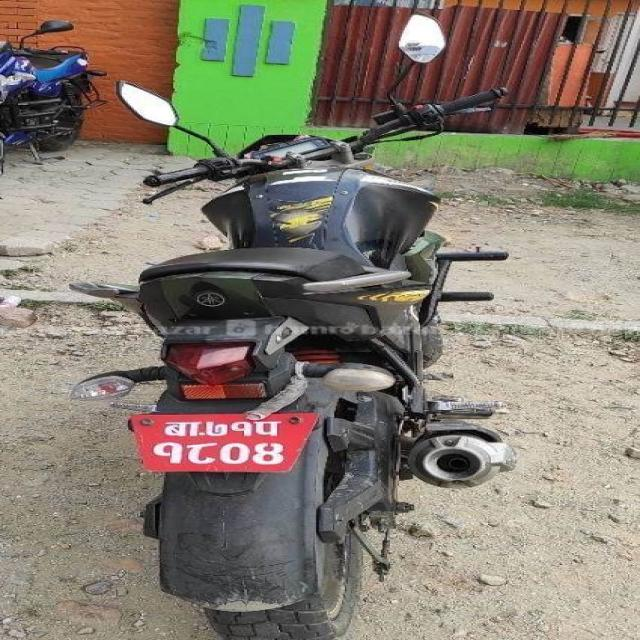License-plate: (126, 412, 320, 470)
